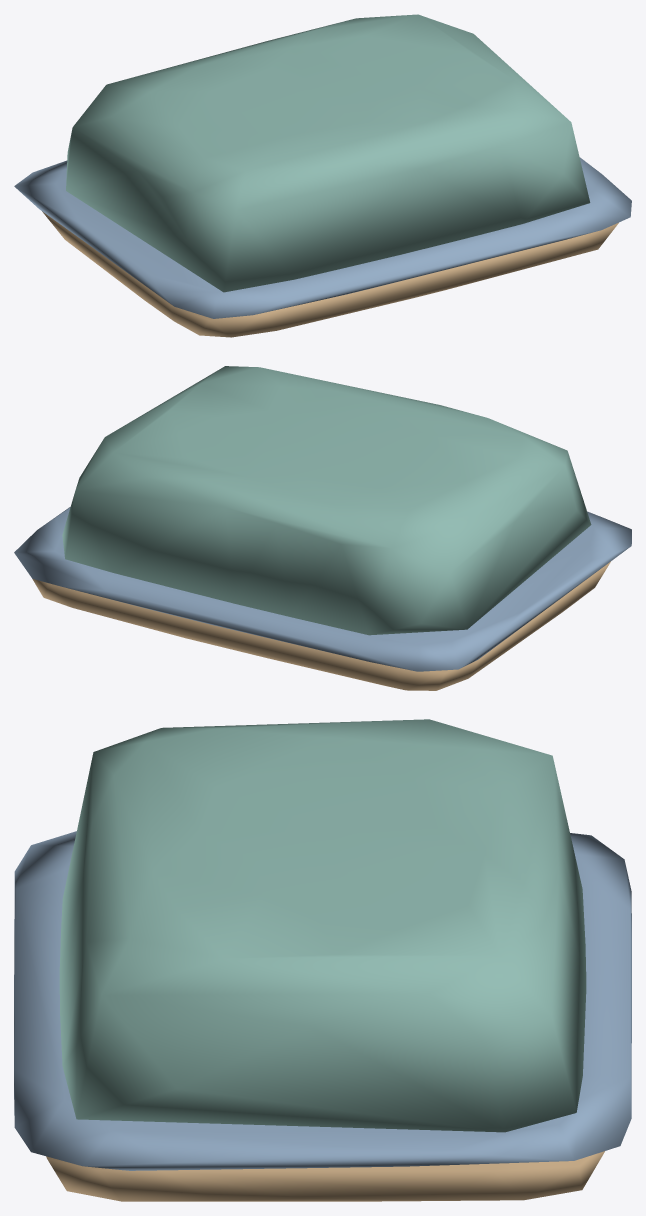
The picture shows the model from 3 angles, top to bottom: view 1: azimuth 30°, elevation 25°; view 2: azimuth 150°, elevation 25°; view 3: azimuth 270°, elevation 25°; orthographic projection. The views are drawn at different scales.
Size of the model in its own units: 1.69 by 0.5138 by 1.31.
